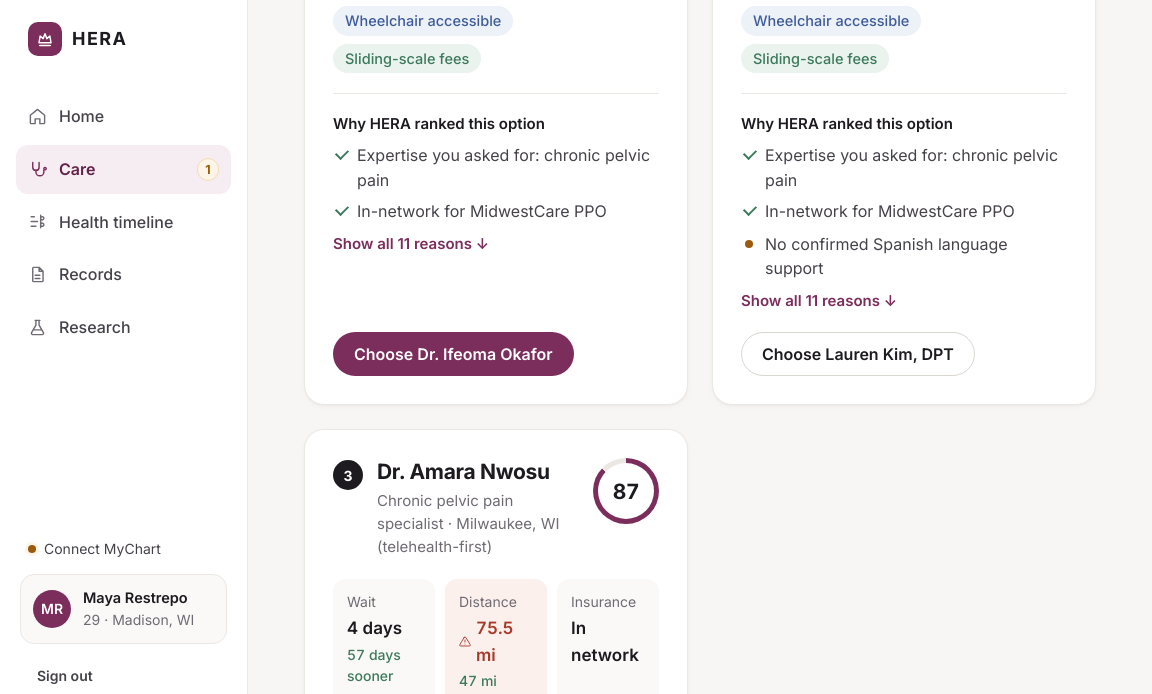
Test: Booked times › cannot be picked
(page scrolled)
Click the button "Choose Dr. Ifeoma Okafor" at (453, 354), box 333,332 -> 574,376
(page scrolled)
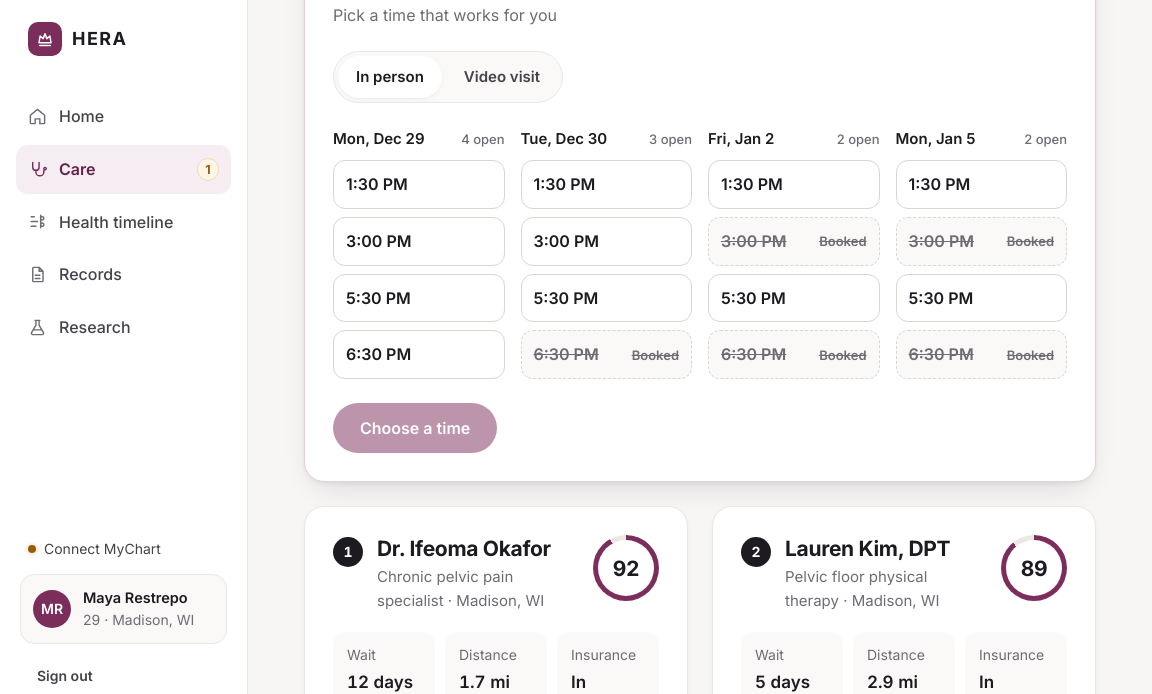
Check: the radio button with aria-label "Tue, Dec 30 at 6:30 PM, booked" is disabled, box 520,330 -> 692,379
Check: the text "Booked" below "Tue, Dec 30" is shown, box 632,347 -> 679,363
